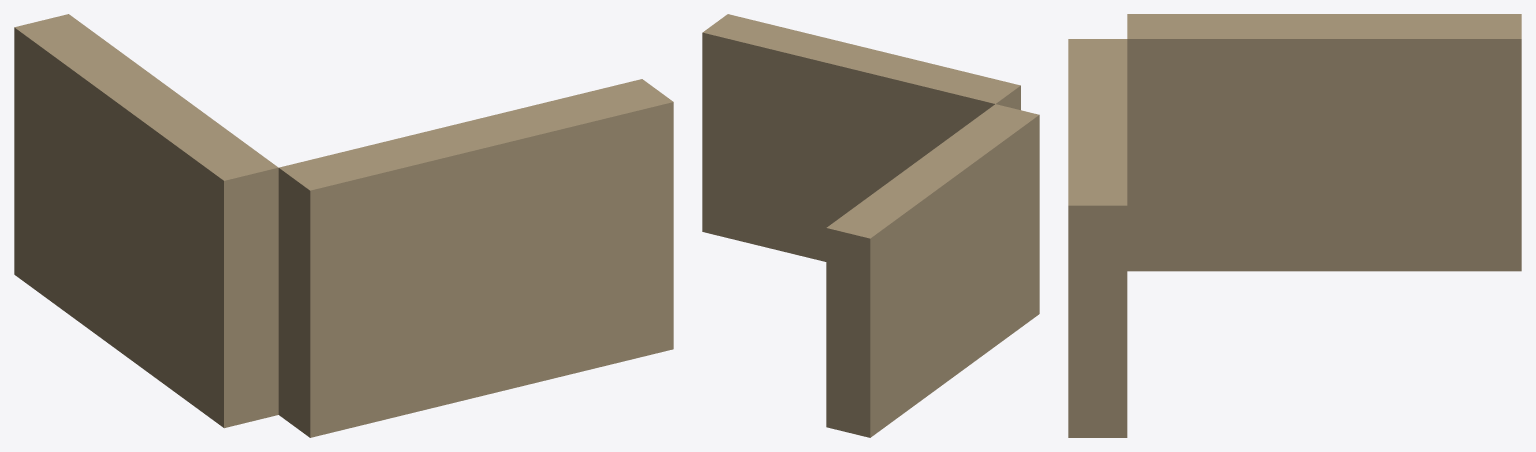
File: OAA_Skirting_Corner_Outer.fbx
The picture shows the model from 3 angles, left to right: view 1: azimuth 30°, elevation 25°; view 2: azimuth 150°, elevation 25°; view 3: azimuth 270°, elevation 25°; orthographic projection. The views are drawn at different scales.
Parts seen in each view (by area): view 1: Body; view 2: Body; view 3: Body.
Boxes of the visible parts, bbox=[...] form: Body: bbox=[14, 14, 673, 437]; Body: bbox=[702, 14, 1039, 437]; Body: bbox=[1068, 14, 1521, 437].
Bounding box in the file's own units: 0.23 × 0.13 × 0.23.
